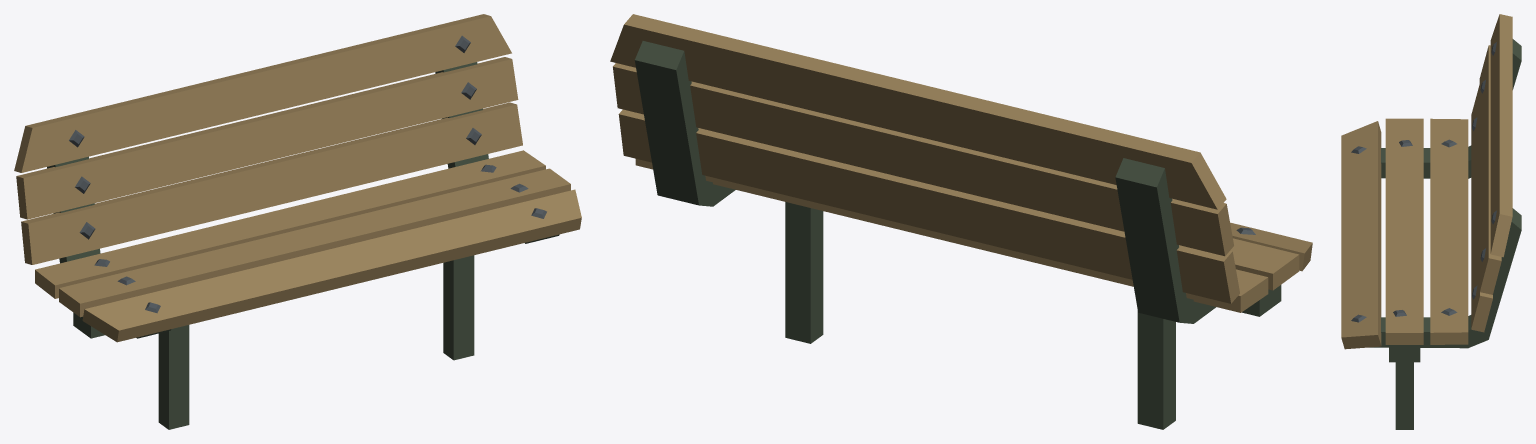
The model's file is park_seat.glb.
The picture shows the model from 3 angles, left to right: view 1: azimuth 30°, elevation 25°; view 2: azimuth 150°, elevation 25°; view 3: azimuth 270°, elevation 25°; orthographic projection. The views are drawn at different scales.
Visible parts, largest first — view 1: SM_Env_Park_Seat_01; view 2: SM_Env_Park_Seat_01; view 3: SM_Env_Park_Seat_01.
Boxes of the visible parts, x1=… form: SM_Env_Park_Seat_01: x1=14, y1=14, x2=581, y2=429; SM_Env_Park_Seat_01: x1=610, y1=14, x2=1312, y2=429; SM_Env_Park_Seat_01: x1=1341, y1=14, x2=1521, y2=429.
Size of the model in its own units: 1.77 by 0.9573 by 0.6295.
1 material, 1 textured.
